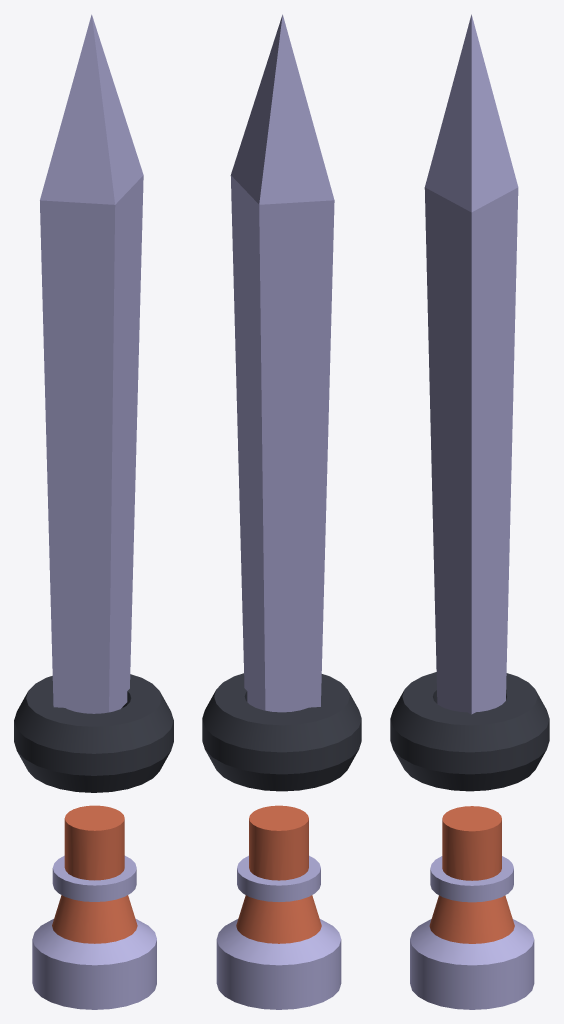
Rendered from LambentLight.fbx.
3 views of the same model, side by side, from view 1: azimuth 30°, elevation 25°; view 2: azimuth 150°, elevation 25°; view 3: azimuth 270°, elevation 25° (orthographic).
Visible parts, largest first — view 1: mergedBlocks; view 2: mergedBlocks; view 3: mergedBlocks.
Part boxes in pixels (<box>): mergedBlocks: <box>14,14,173,1009</box>; mergedBlocks: <box>202,14,361,1009</box>; mergedBlocks: <box>390,14,549,1009</box>.
Bounding box in the file's own units: 2.62 × 17.6 × 2.62.
